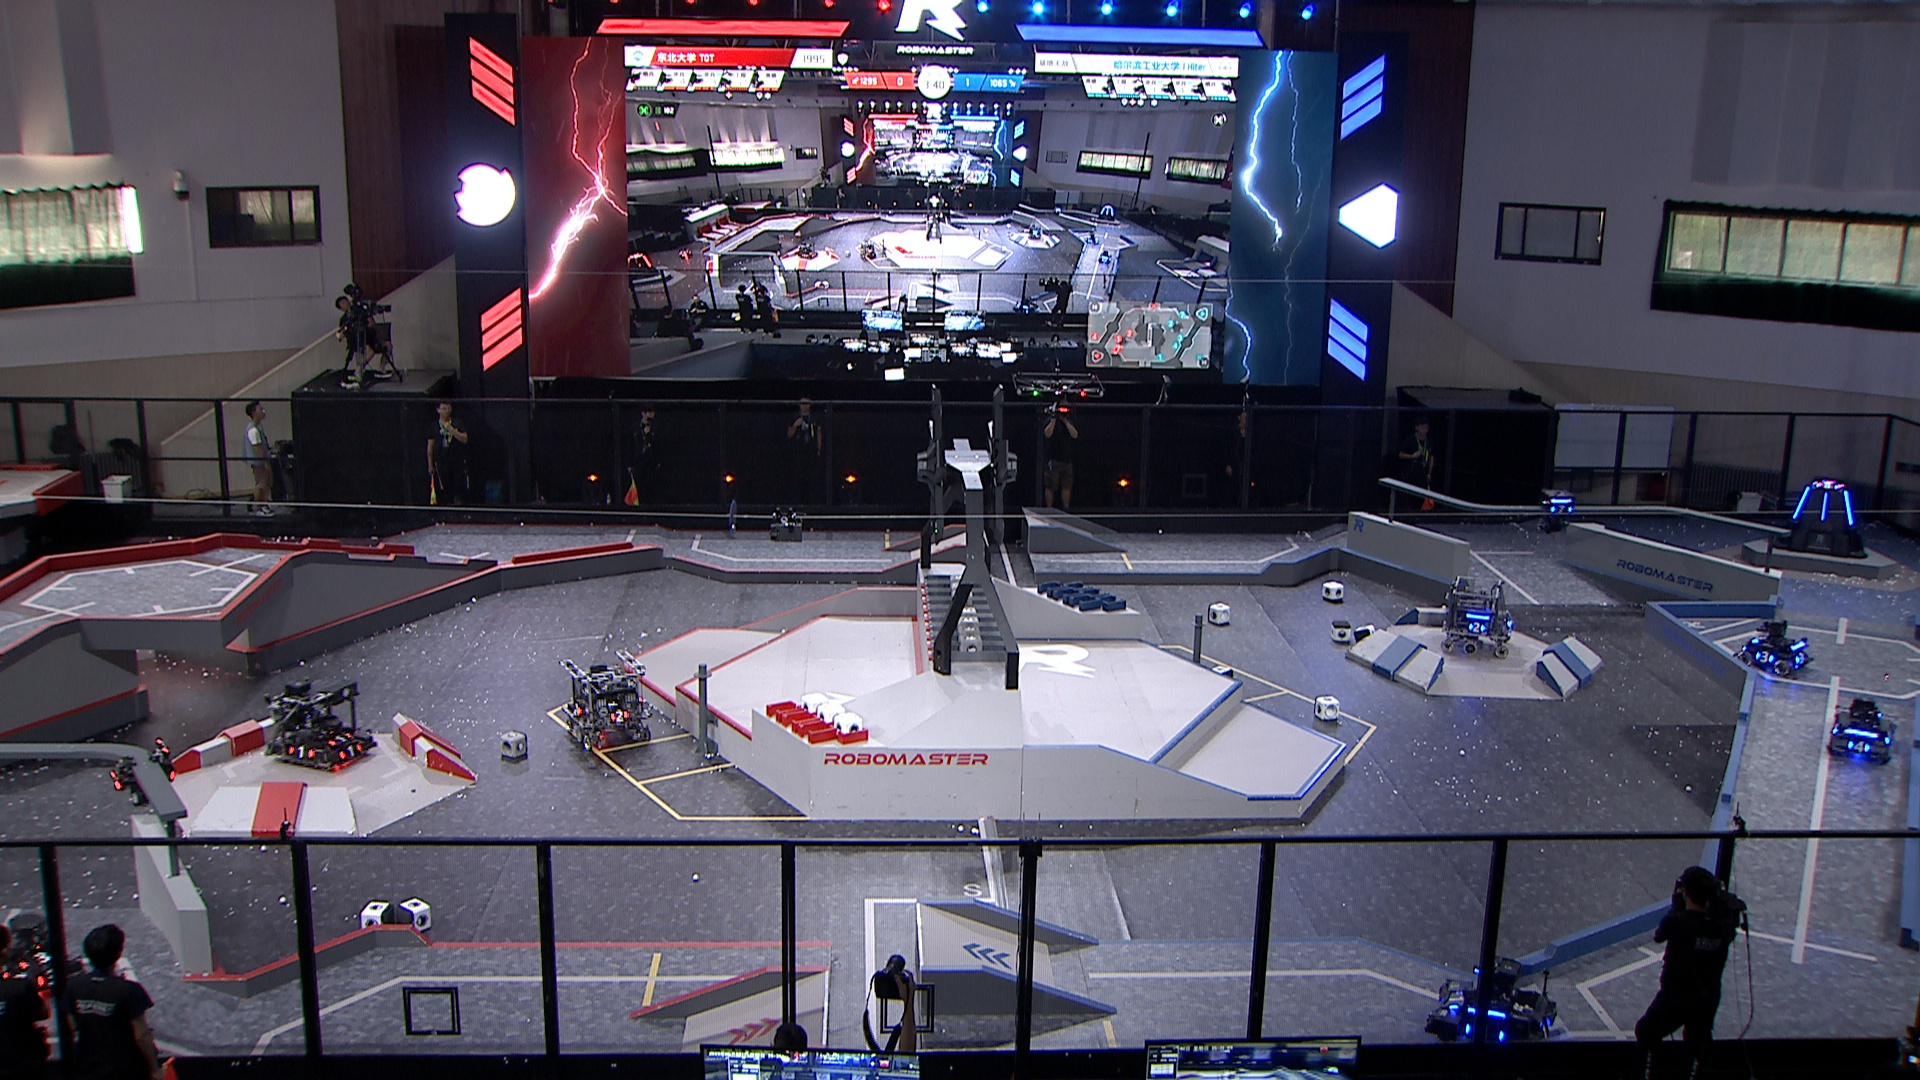armor: (15, 945, 57, 971), (1789, 484, 1813, 520), (32, 965, 63, 992), (285, 741, 319, 764), (1534, 1015, 1557, 1044), (1447, 984, 1466, 1015), (338, 741, 365, 764), (1840, 491, 1855, 527), (324, 728, 353, 746), (105, 766, 124, 794), (1844, 737, 1871, 756), (608, 708, 632, 727), (1818, 489, 1830, 526), (1753, 647, 1778, 665), (1549, 501, 1575, 516), (567, 700, 588, 717), (1466, 618, 1487, 636), (1793, 647, 1809, 669)
base: (1768, 476, 1870, 560)
car: (1424, 953, 1563, 1063), (258, 674, 376, 771), (560, 654, 651, 749), (1433, 572, 1516, 659), (1822, 695, 1902, 767), (1735, 617, 1818, 678)
ignore: (622, 248, 659, 282), (1011, 295, 1039, 313), (796, 237, 818, 258), (860, 240, 878, 261), (674, 243, 694, 261), (1815, 479, 1842, 491), (1098, 204, 1116, 223), (1097, 248, 1114, 264)
watcher: (103, 737, 181, 808), (1536, 484, 1577, 537)
